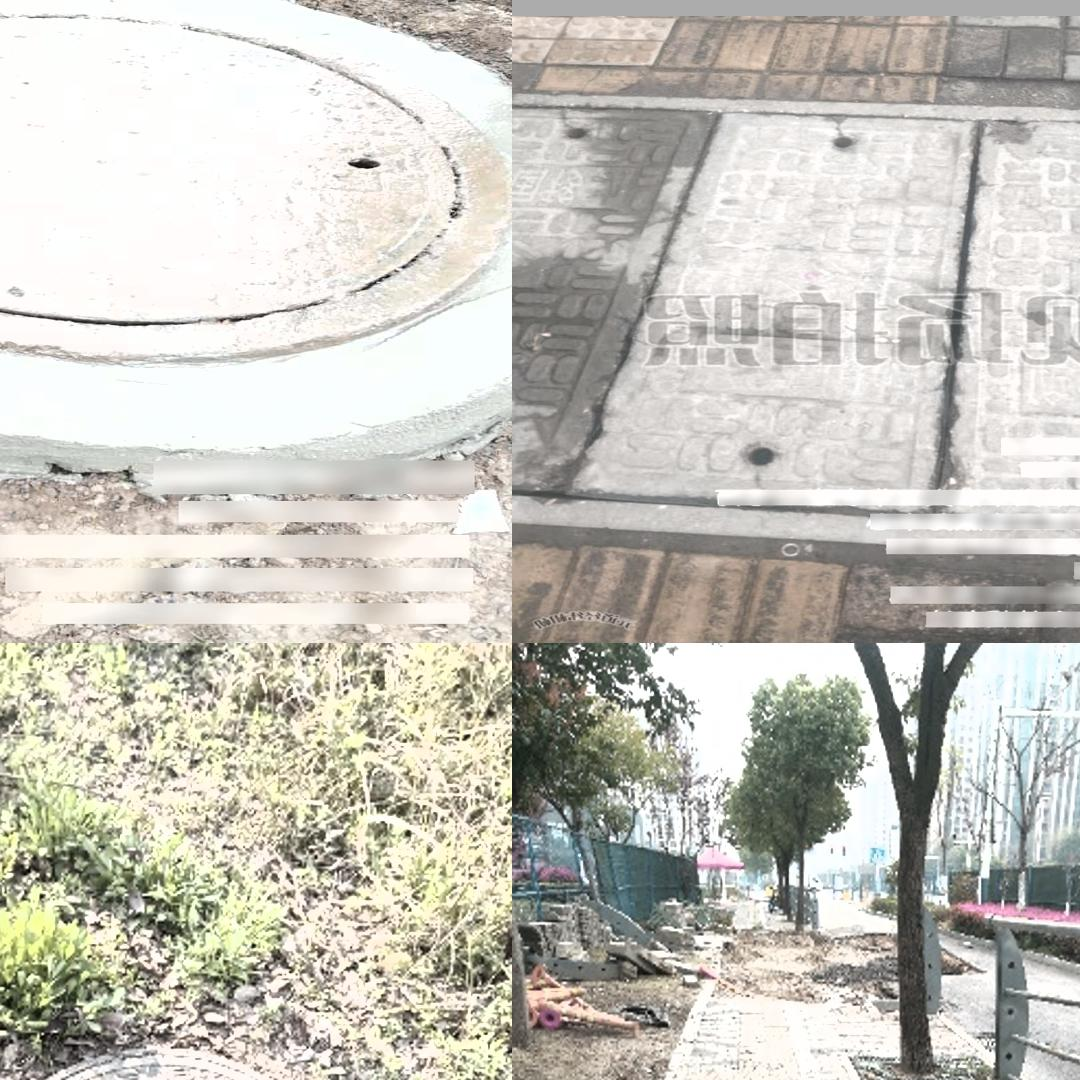good: (515, 94, 1080, 523), (0, 0, 510, 362), (0, 1051, 378, 1080)
